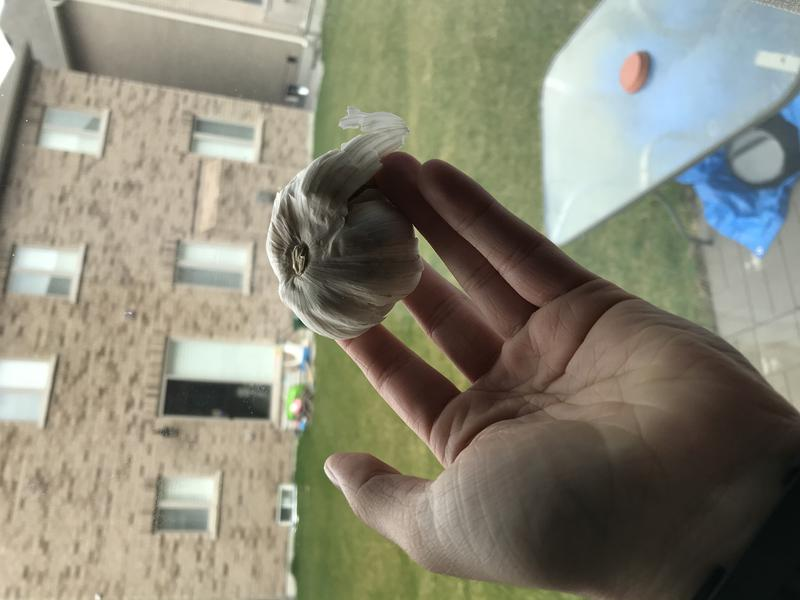garlic: (256, 147, 432, 345)
